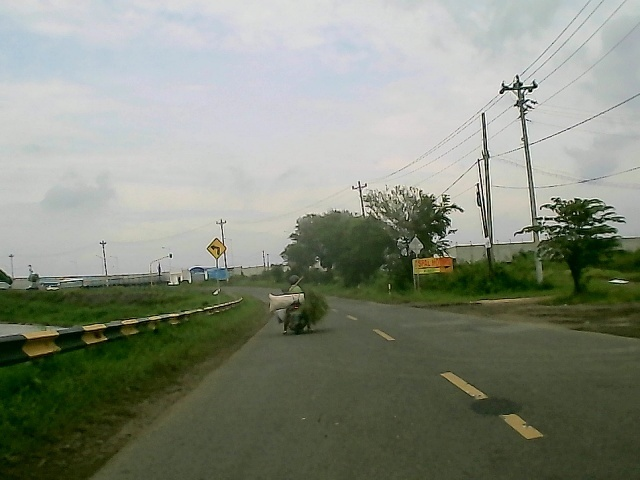Tikungan tajam ke kiri: (205, 237, 228, 260)
